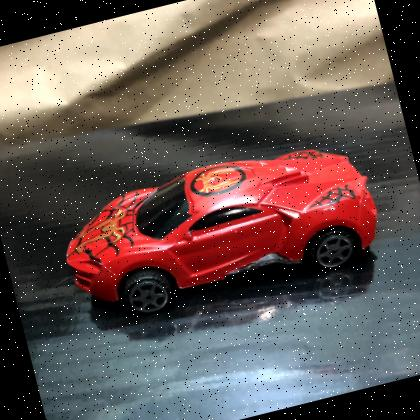Car: (65, 150, 378, 315)
